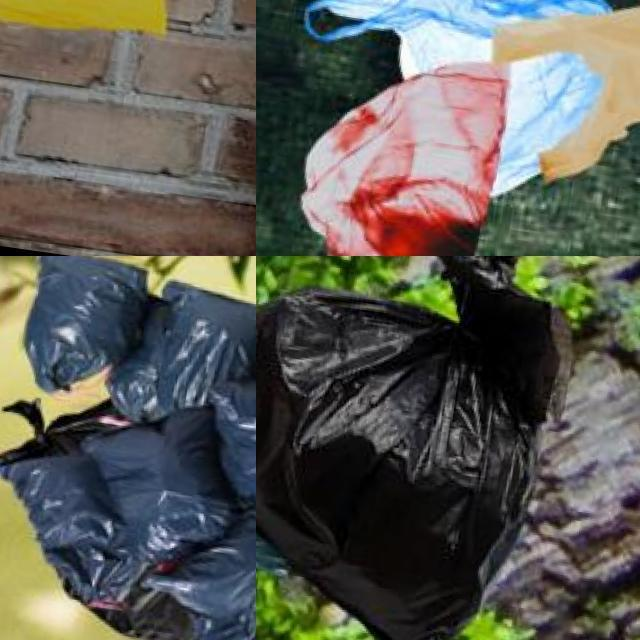waste: (256, 256, 569, 640), (296, 0, 613, 181), (481, 0, 640, 204), (64, 391, 246, 541), (0, 446, 146, 579), (130, 275, 256, 417), (23, 256, 136, 377), (177, 506, 256, 640), (193, 333, 256, 501), (0, 0, 186, 47)
